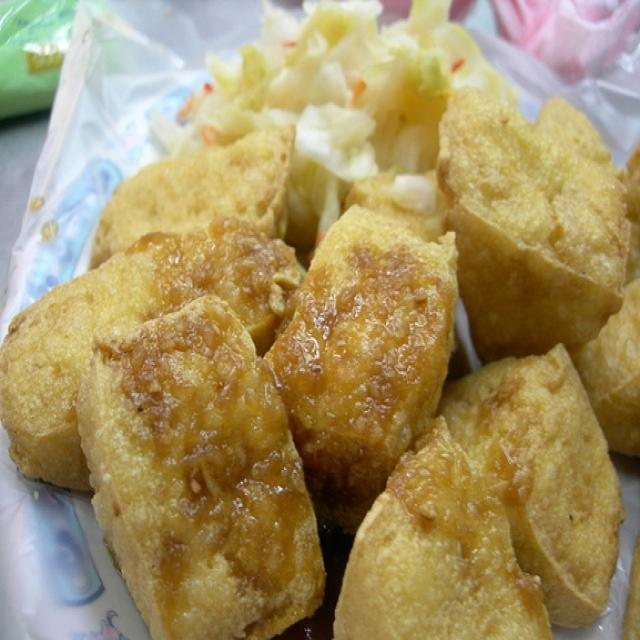豆腐料理: (11, 24, 636, 634)
